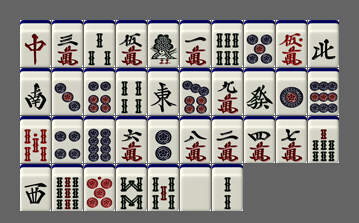0m: (276, 20, 307, 67)
0p: (84, 164, 115, 211)
0s: (20, 116, 51, 163)
1m: (180, 20, 211, 67)
1p: (276, 68, 307, 115)
1s: (148, 20, 179, 67)
1z: (148, 68, 179, 115)
2m: (212, 116, 243, 163)
2p: (148, 116, 179, 163)
2s: (212, 164, 243, 211)
2z: (20, 68, 51, 115)
3m: (52, 20, 83, 67)
3p: (52, 68, 83, 115)
3s: (84, 20, 115, 67)
3z: (20, 164, 51, 211)
4m: (244, 116, 275, 163)
4p: (52, 116, 83, 163)
4s: (116, 68, 147, 115)
4z: (308, 20, 339, 67)
5m: (116, 20, 147, 67)
5p: (244, 20, 275, 67)
5s: (148, 164, 179, 211)
5z: (180, 164, 211, 211)
6m: (116, 116, 147, 163)
6p: (84, 68, 115, 115)
6s: (212, 20, 243, 67)
6z: (244, 68, 275, 115)
7m: (276, 116, 307, 163)
7p: (180, 68, 211, 115)
7s: (308, 116, 339, 163)
7z: (20, 20, 51, 67)
8m: (180, 116, 211, 163)
8p: (84, 116, 115, 163)
8s: (116, 164, 147, 211)
9m: (212, 68, 243, 115)
9p: (308, 68, 339, 115)
9s: (52, 164, 83, 211)
